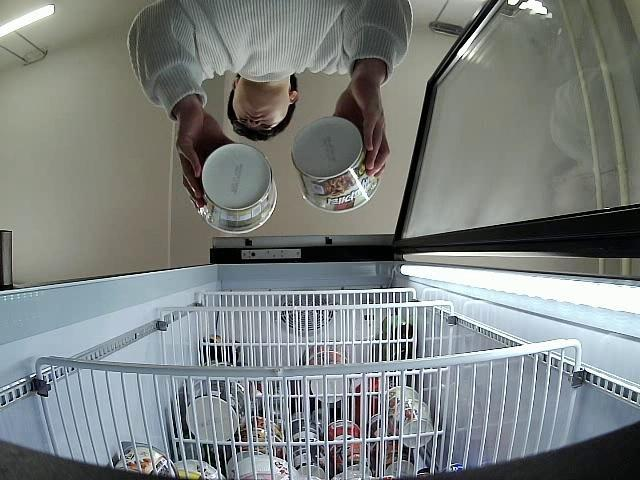03_chapagetti_L: (292, 118, 382, 213), (195, 142, 278, 236)
